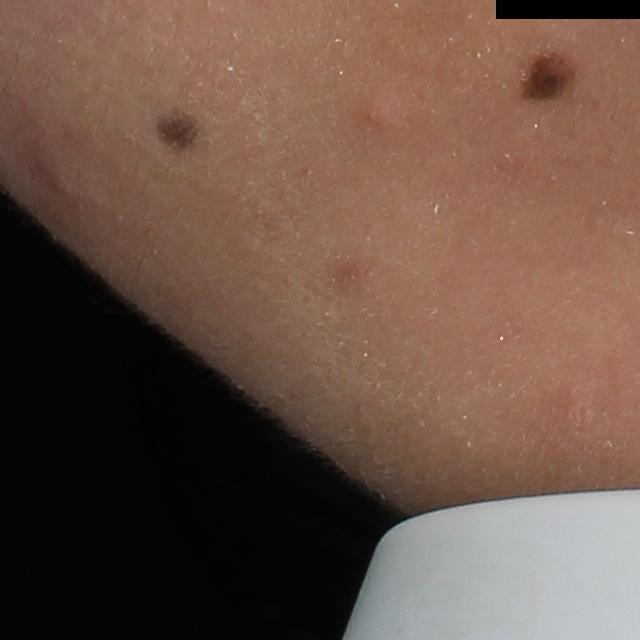comedo: (360, 91, 400, 134)
nevus: (514, 42, 587, 112), (145, 105, 203, 153)
